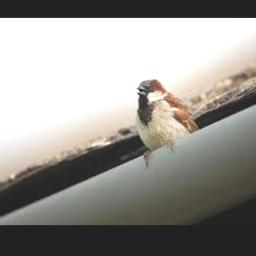Sparrow: (135, 79, 200, 164)
